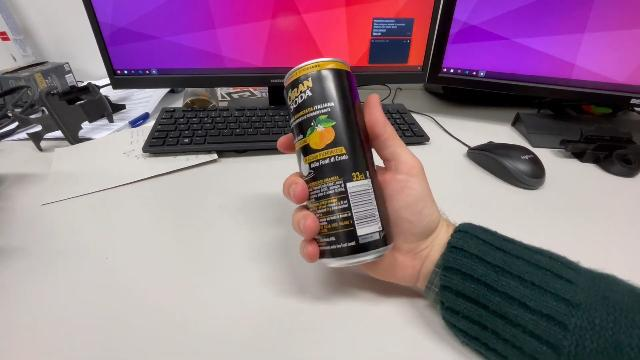OranSoda: (282, 55, 394, 270)
